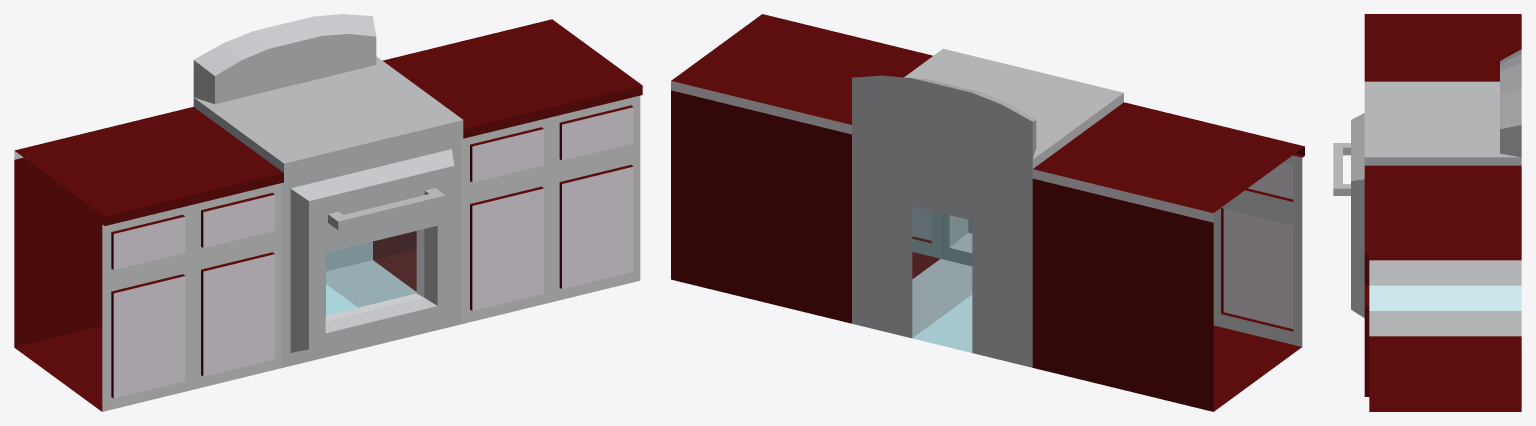
The model's file is OVEN.fbx.
3 views of the same model, side by side, from view 1: azimuth 30°, elevation 25°; view 2: azimuth 150°, elevation 25°; view 3: azimuth 270°, elevation 25° (orthographic). The views are drawn at different scales.
Visible parts, largest first — view 1: Cube.010; view 2: Cube.010; view 3: Cube.010.
Part boxes in pixels (box(x1,y1,x2,y2)): Cube.010: box(14, 14, 642, 411); Cube.010: box(671, 14, 1304, 411); Cube.010: box(1333, 14, 1521, 411).
Bounding box in the file's own units: 120 × 55 × 42.
